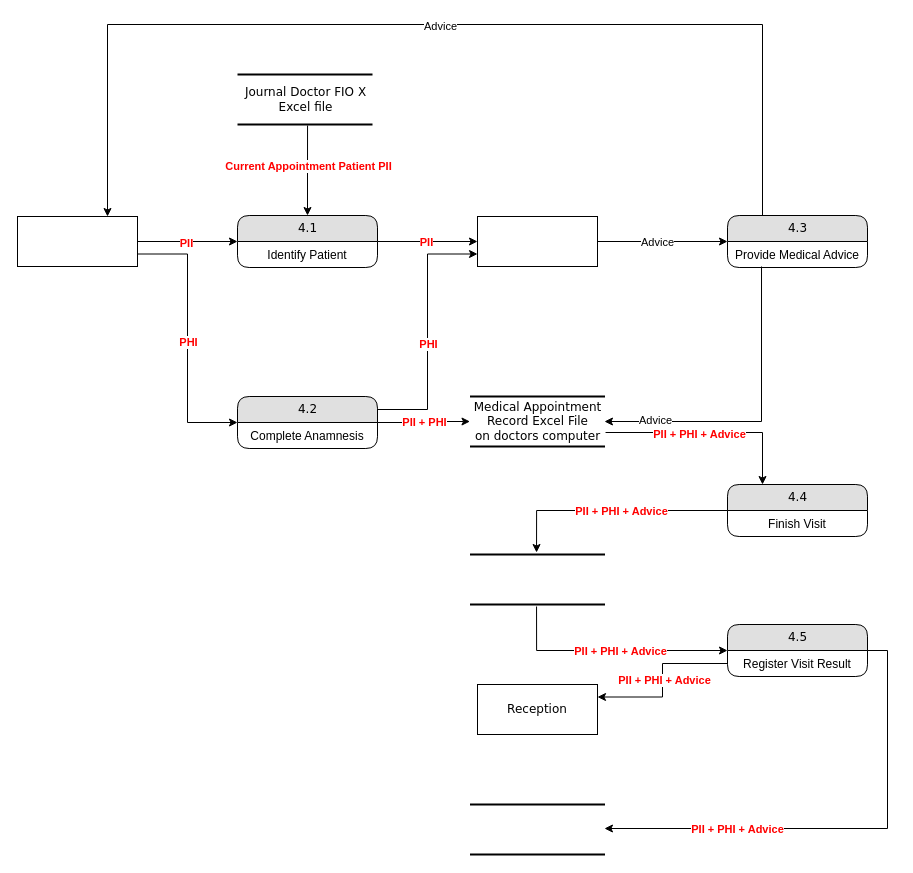
The diagram is 913 pixels wide and 873 high, and some of its shapes have lost their labels. The box of each missing label's shape, as (x1, y1, x2, y2) in pixels:
Doctor: (476, 216, 598, 266)
E-mail: (468, 553, 606, 605)
Patient: (16, 216, 138, 266)
Patient data file: (468, 803, 606, 855)
